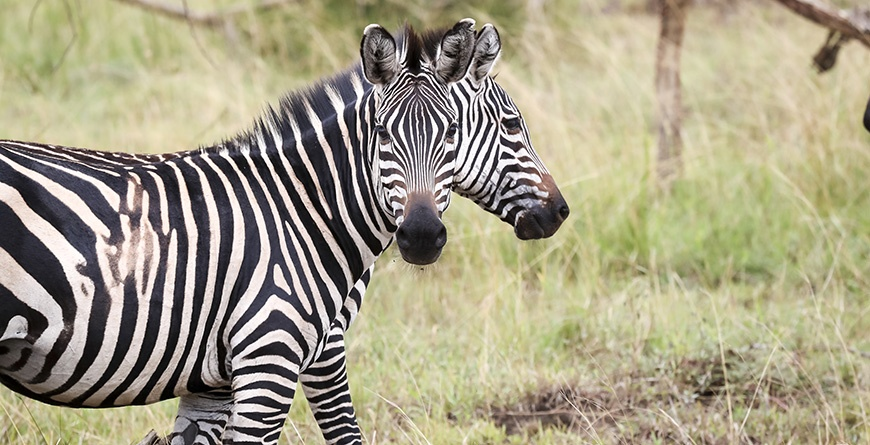zebra: (0, 16, 588, 445), (1, 16, 476, 436)
